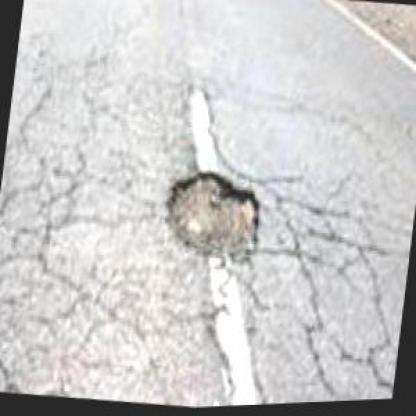pothole: (158, 164, 270, 273)
